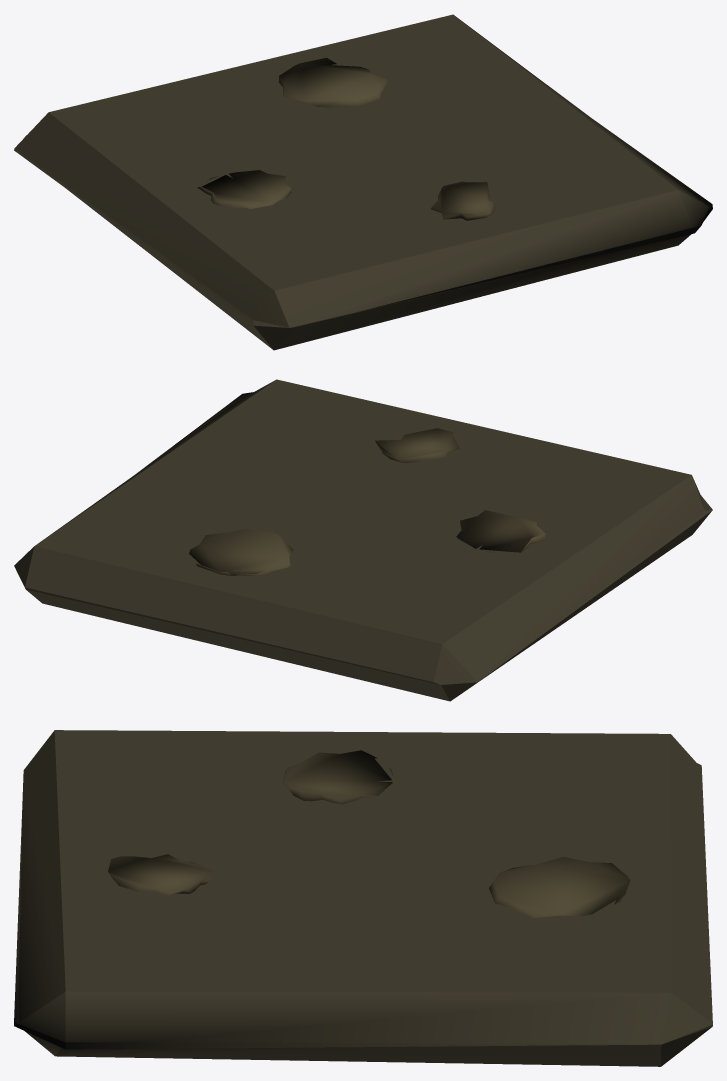
The model's file is floor_region2_v2.glb.
The picture shows the model from 3 angles, top to bottom: view 1: azimuth 30°, elevation 25°; view 2: azimuth 150°, elevation 25°; view 3: azimuth 270°, elevation 25°; orthographic projection. The views are drawn at different scales.
Parts seen in each view (by area): view 1: floor_region2_v2; view 2: floor_region2_v2; view 3: floor_region2_v2.
Boxes of the visible parts, left/top/right/bottom form: floor_region2_v2: left=14, top=14, right=712, bottom=350; floor_region2_v2: left=14, top=379, right=712, bottom=701; floor_region2_v2: left=14, top=730, right=712, bottom=1066.
Size of the model in its own units: 1.02 by 0.1386 by 1.02.
